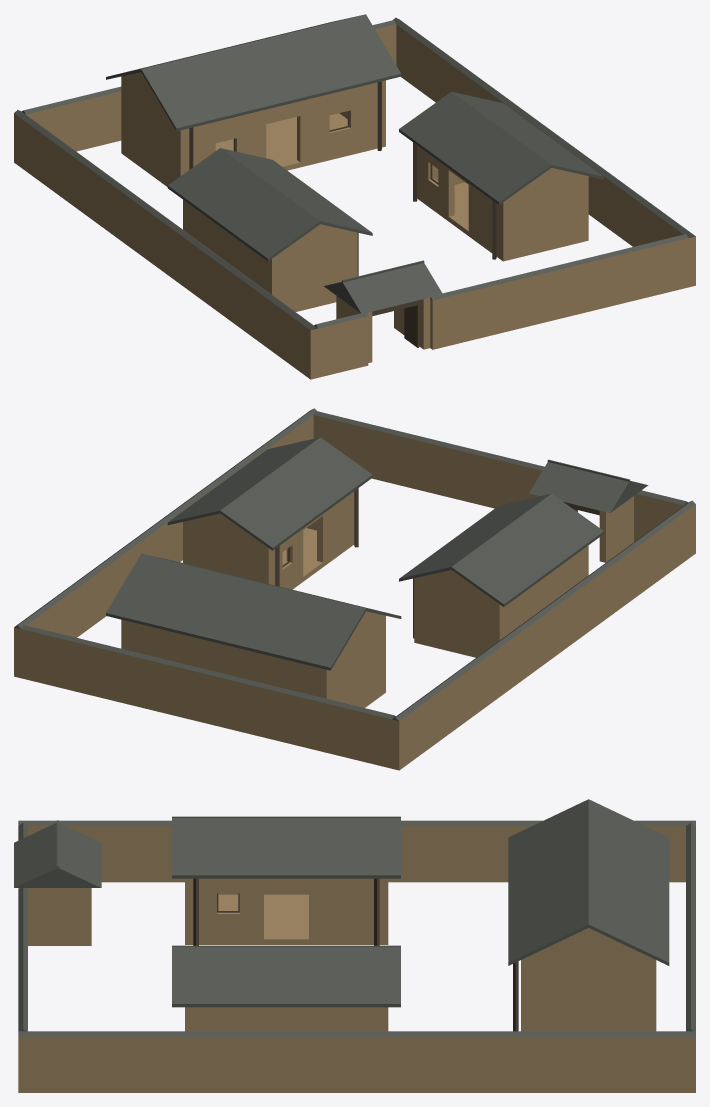
The model's file is opposed_rooms-LOD2.glb.
3 renders of one model, top to bottom at view 1: azimuth 30°, elevation 25°; view 2: azimuth 150°, elevation 25°; view 3: azimuth 270°, elevation 25°, orthographic. The views are drawn at different scales.
Parts seen in each view (by area): view 1: opposed_rooms_earth, opposed_rooms_tile, opposed_rooms_timber; view 2: opposed_rooms_earth, opposed_rooms_tile, opposed_rooms_timber; view 3: opposed_rooms_earth, opposed_rooms_tile, opposed_rooms_timber.
Boxes of the visible parts, x1=… form: opposed_rooms_earth: x1=14, y1=24, x2=695, y2=379; opposed_rooms_tile: x1=14, y1=14, x2=695, y2=330; opposed_rooms_timber: x1=189, y1=81, x2=496, y2=347; opposed_rooms_earth: x1=14, y1=415, x2=695, y2=770; opposed_rooms_tile: x1=14, y1=408, x2=695, y2=721; opposed_rooms_timber: x1=275, y1=488, x2=599, y2=638; opposed_rooms_earth: x1=18, y1=826, x2=695, y2=1092; opposed_rooms_tile: x1=14, y1=799, x2=695, y2=1036; opposed_rooms_timber: x1=193, y1=878, x2=518, y2=1031.
Size of the model in its own units: 18 by 4.83 by 24.15.
